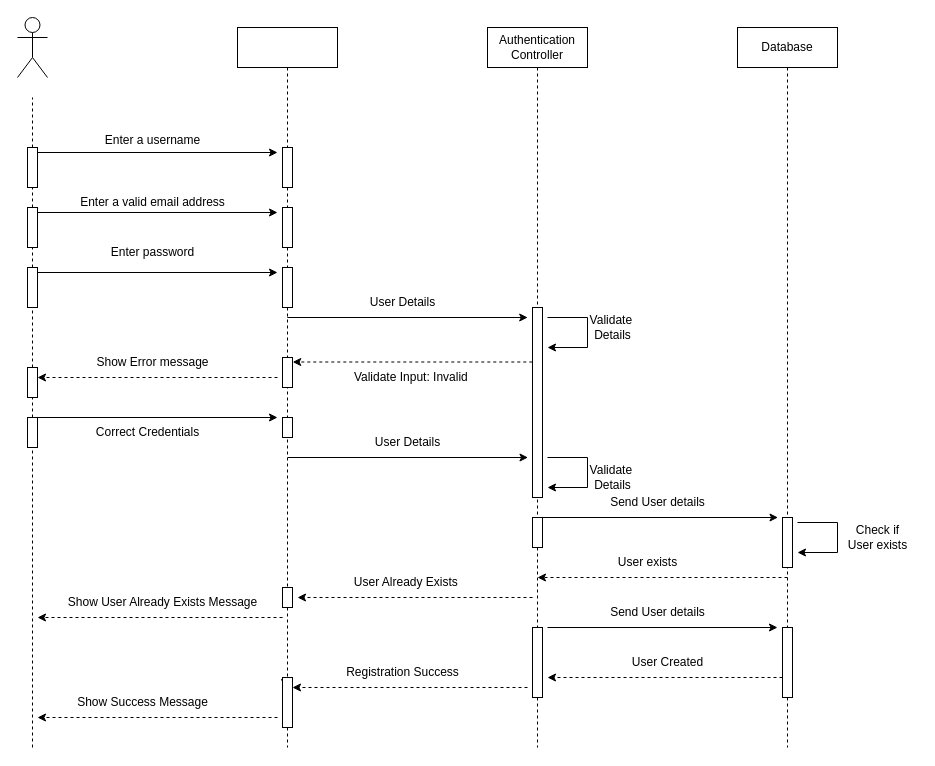
Some shapes in this 935 by 766 pixel diagram are drawn without their labels. Each missing label, with the box of its shape:
loginPage: LoginUI: (236, 26, 338, 748)
User: (16, 16, 48, 78)
